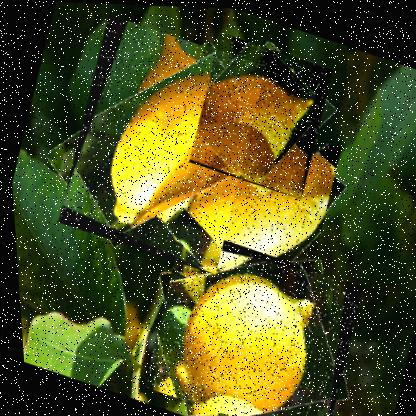lemon: (42, 9, 275, 274), (127, 220, 367, 415), (151, 96, 347, 314), (178, 27, 337, 197)
